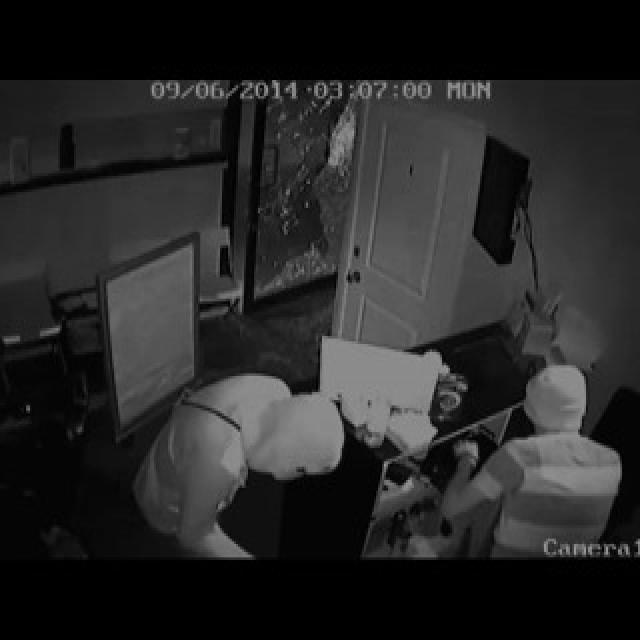thief: (124, 359, 348, 556), (430, 357, 633, 554)
